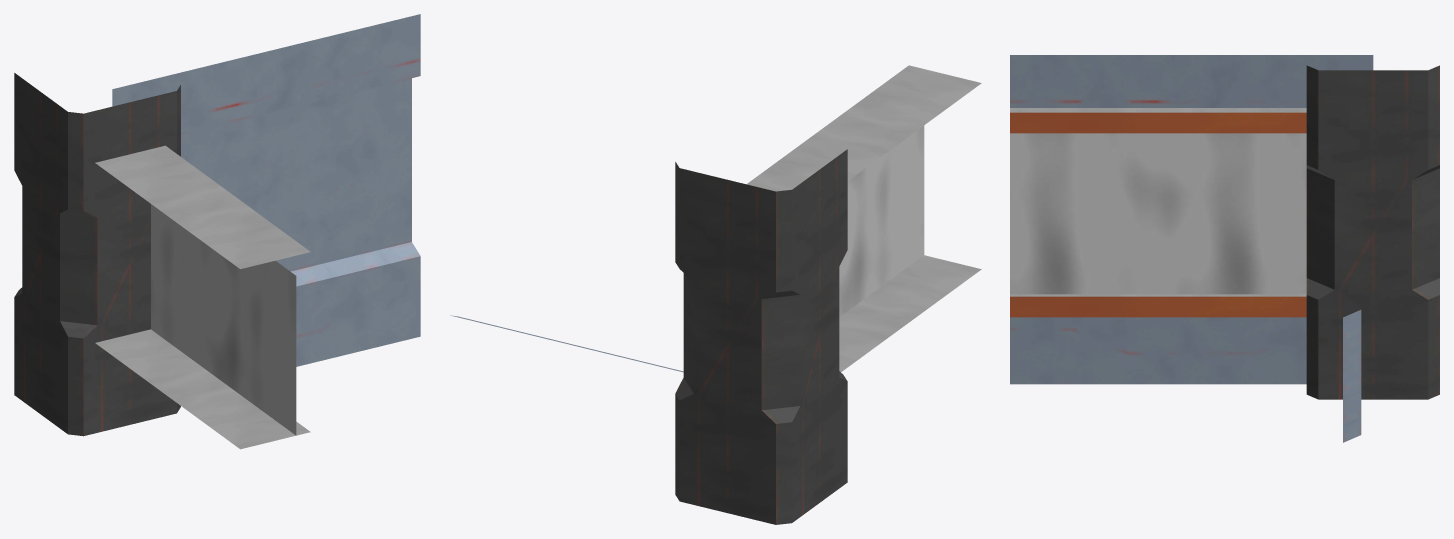
Rendered from Wall_WindowCorner_2_B.glb.
3 views of the same model, side by side, from view 1: azimuth 30°, elevation 25°; view 2: azimuth 150°, elevation 25°; view 3: azimuth 270°, elevation 25° (orthographic). The views are drawn at different scales.
Visible parts, largest first — view 1: Wall_WindowCorner_2_B; view 2: Wall_WindowCorner_2_B; view 3: Wall_WindowCorner_2_B.
Boxes of the visible parts, box(x1,y1,x2,y2) form: Wall_WindowCorner_2_B: box(14, 14, 420, 449); Wall_WindowCorner_2_B: box(450, 65, 981, 524); Wall_WindowCorner_2_B: box(1010, 55, 1439, 442).
Size of the model in its own units: 7.1 by 6 by 7.1.
3 materials, 3 textured.
